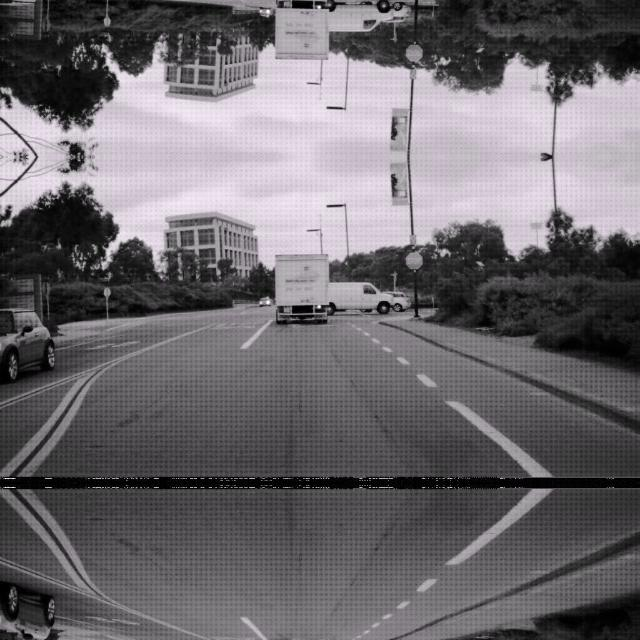stop: (405, 250, 423, 268), (405, 44, 423, 62)
